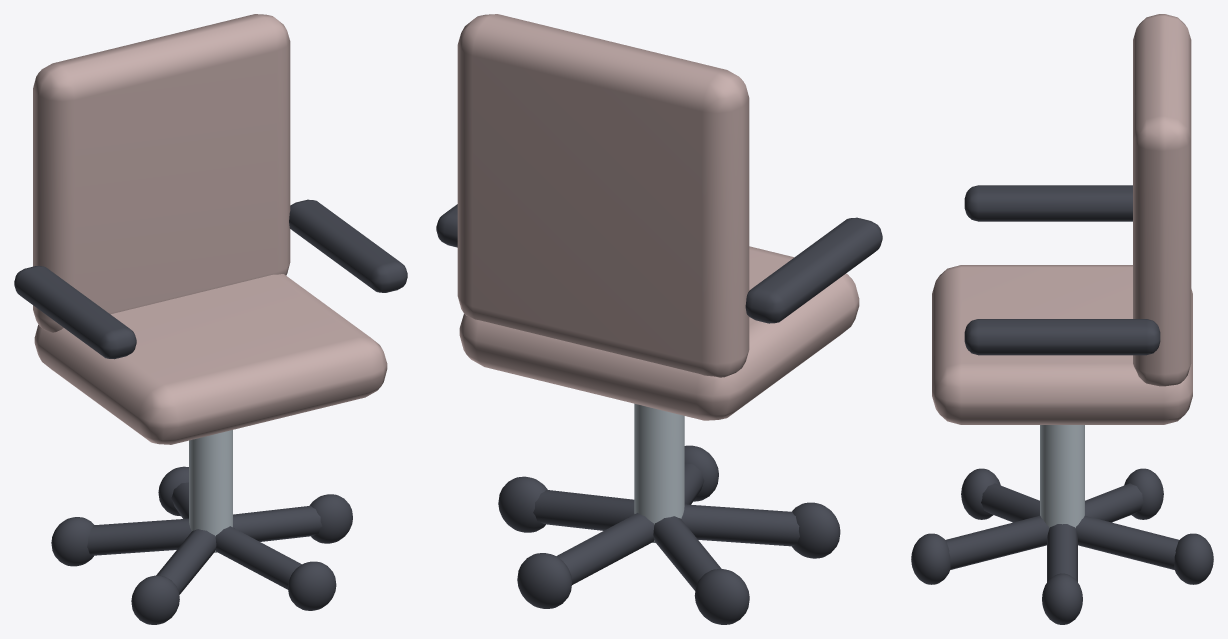
The model's file is chairOfficeMain.glb.
The picture shows the model from 3 angles, left to right: view 1: azimuth 30°, elevation 25°; view 2: azimuth 150°, elevation 25°; view 3: azimuth 270°, elevation 25°; orthographic projection. The views are drawn at different scales.
Visible parts, largest first — view 1: Backrest, Seat, Arm rest, Arm rest.001, Chair stem, Caster spoke.002, Caster spoke.004, Caster spoke, Wheel.003, Wheel.004, Caster spoke.003, Wheel.002 (+2 smaller); view 2: Backrest, Seat, Arm rest, Chair stem, Caster spoke.003, Caster spoke.001, Caster spoke, Wheel.001, Wheel.002, Caster spoke.002, Wheel.003, Wheel (+3 smaller); view 3: Seat, Backrest, Arm rest.001, Arm rest, Chair stem, Caster spoke.001, Caster spoke.004, Wheel, Wheel.001, Wheel.004, Caster spoke.002, Caster spoke.003 (+3 smaller).
Part boxes in pixels (x1=…): Backrest: x1=33, y1=14, x2=290, y2=332; Seat: x1=34, y1=274, x2=387, y2=444; Arm rest: x1=14, y1=266, x2=136, y2=359; Arm rest.001: x1=289, y1=199, x2=407, y2=292; Chair stem: x1=189, y1=430, x2=232, y2=552; Caster spoke.002: x1=87, y1=518, x2=191, y2=555; Caster spoke.004: x1=215, y1=526, x2=301, y2=589; Caster spoke: x1=233, y1=505, x2=322, y2=541; Wheel.003: x1=131, y1=575, x2=179, y2=624; Wheel.004: x1=288, y1=561, x2=336, y2=610; Caster spoke.003: x1=156, y1=529, x2=216, y2=594; Wheel.002: x1=51, y1=517, x2=93, y2=566; Backrest: x1=457, y1=14, x2=749, y2=377; Seat: x1=459, y1=246, x2=859, y2=420; Arm rest: x1=745, y1=217, x2=882, y2=323; Chair stem: x1=634, y1=403, x2=684, y2=542; Caster spoke.003: x1=681, y1=504, x2=799, y2=546; Caster spoke.001: x1=556, y1=513, x2=654, y2=584; Caster spoke: x1=533, y1=489, x2=634, y2=530; Wheel.001: x1=517, y1=553, x2=572, y2=608; Wheel.002: x1=694, y1=569, x2=749, y2=624; Caster spoke.002: x1=653, y1=516, x2=721, y2=590; Wheel.003: x1=792, y1=502, x2=840, y2=558; Wheel: x1=498, y1=476, x2=547, y2=532; Seat: x1=932, y1=265, x2=1192, y2=424; Backrest: x1=1133, y1=14, x2=1191, y2=386; Arm rest.001: x1=964, y1=319, x2=1160, y2=355; Arm rest: x1=964, y1=185, x2=1132, y2=221; Chair stem: x1=1040, y1=425, x2=1084, y2=527; Caster spoke.001: x1=1075, y1=515, x2=1179, y2=569; Caster spoke.004: x1=945, y1=515, x2=1049, y2=569; Wheel: x1=1042, y1=573, x2=1082, y2=624; Wheel.001: x1=1174, y1=533, x2=1213, y2=584; Wheel.004: x1=911, y1=533, x2=950, y2=584; Caster spoke.002: x1=1085, y1=483, x2=1143, y2=522; Caster spoke.003: x1=981, y1=483, x2=1039, y2=522.
Bounding box in the file's own units: 1.04 × 1.6 × 0.8808.
